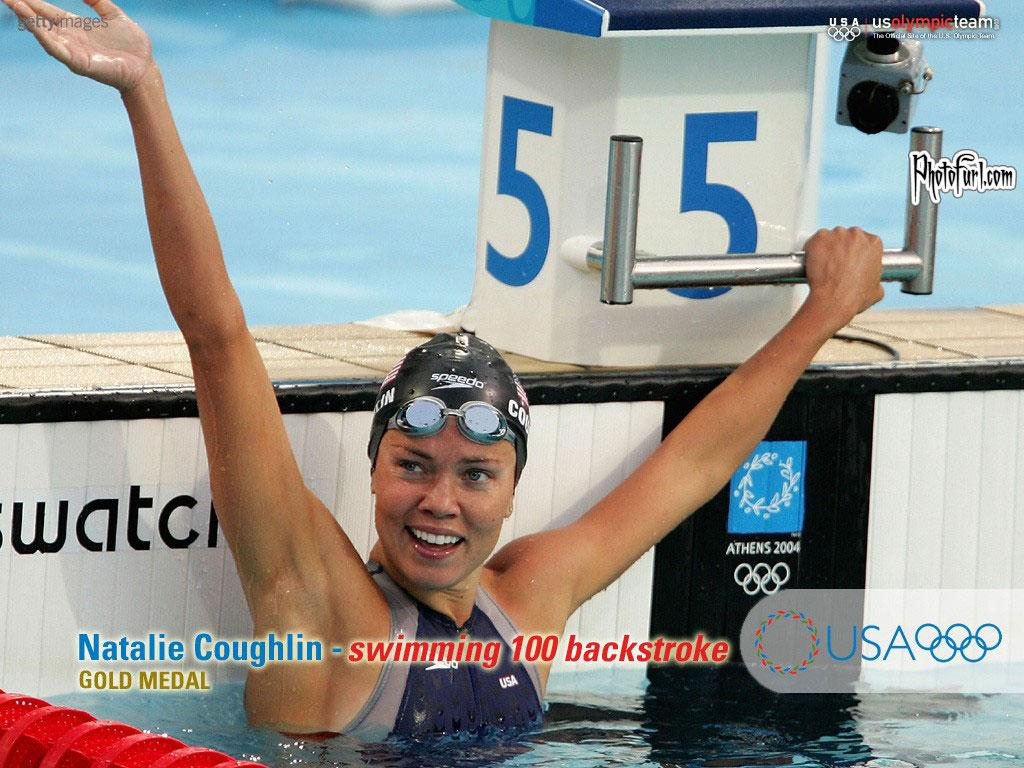face: (376, 420, 510, 582)
